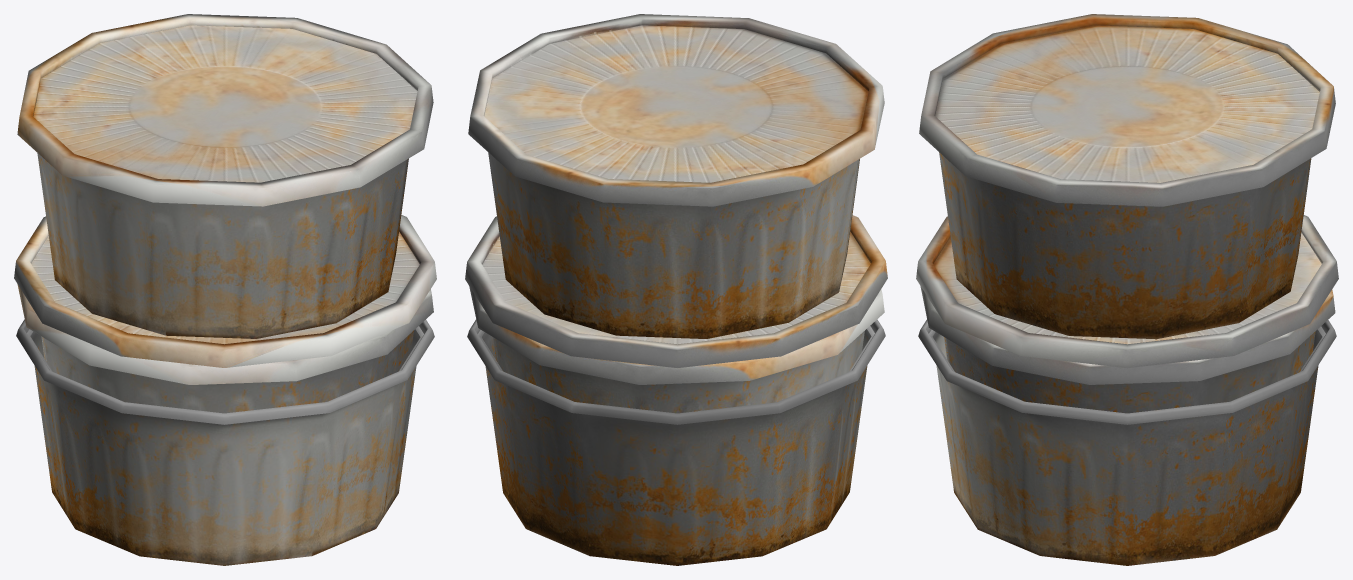
The model's file is trash_food container.fbx.
3 views of the same model, side by side, from view 1: azimuth 30°, elevation 25°; view 2: azimuth 150°, elevation 25°; view 3: azimuth 270°, elevation 25° (orthographic).
Visible parts, largest first — view 1: trash_food container_002, trash_food container_001, trash_food container_003; view 2: trash_food container_002, trash_food container_001, trash_food container_003; view 3: trash_food container_002, trash_food container_001, trash_food container_003.
Boxes of the visible parts, box(x1,y1,x2,y2) form: trash_food container_002: box(17, 14, 433, 338); trash_food container_001: box(14, 215, 436, 565); trash_food container_003: box(17, 284, 433, 413); trash_food container_002: box(468, 14, 884, 338); trash_food container_001: box(465, 215, 887, 565); trash_food container_003: box(469, 286, 884, 413); trash_food container_002: box(919, 14, 1335, 339); trash_food container_001: box(916, 215, 1338, 565); trash_food container_003: box(920, 286, 1335, 413).
Size of the model in its own units: 25.71 by 25.71 by 26.27.
